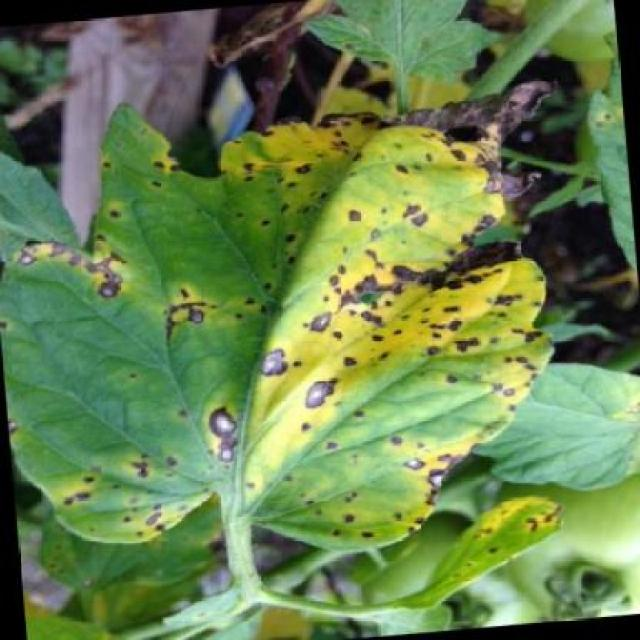Septoria leaf spot: (1, 80, 570, 583)
